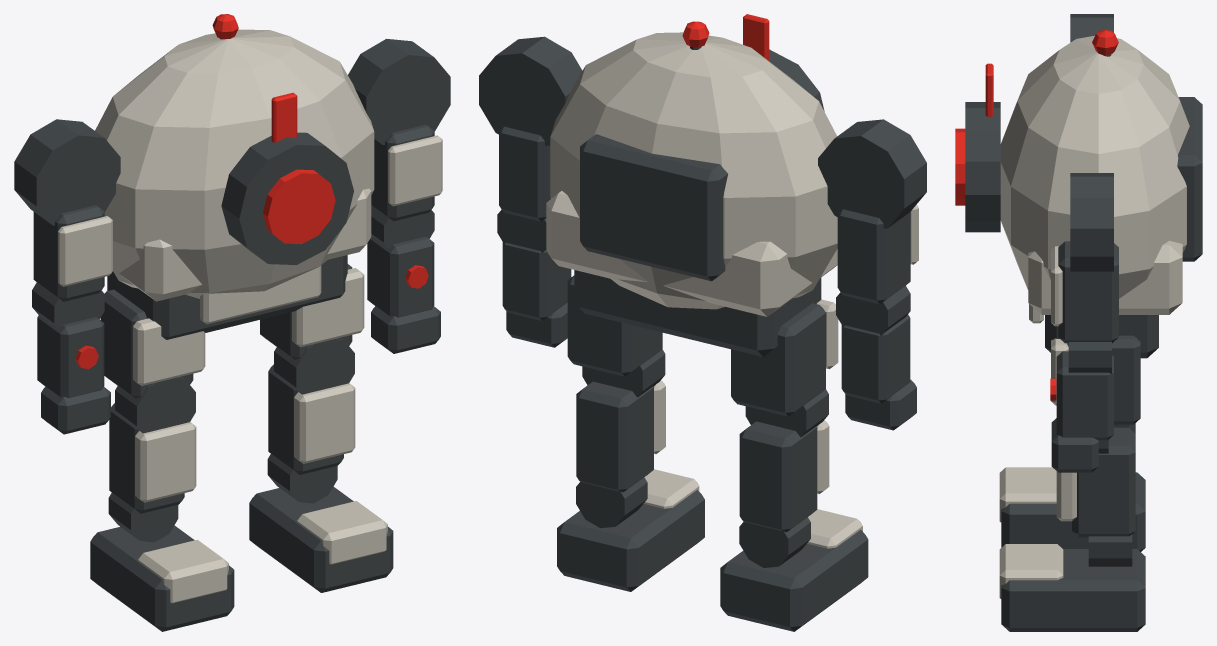
The model's file is Enemy_Grunt.fbx.
The picture shows the model from 3 angles, left to right: view 1: azimuth 30°, elevation 25°; view 2: azimuth 150°, elevation 25°; view 3: azimuth 270°, elevation 25°; orthographic projection. The views are drawn at different scales.
Visible parts, largest first — view 1: Enemy_Grunt_Dark, Enemy_Grunt_Ivory, Enemy_Grunt_Red; view 2: Enemy_Grunt_Dark, Enemy_Grunt_Ivory, Enemy_Grunt_Red; view 3: Enemy_Grunt_Dark, Enemy_Grunt_Ivory, Enemy_Grunt_Red.
Boxes of the visible parts, bbox=[...] form: Enemy_Grunt_Dark: bbox=[14, 38, 450, 631]; Enemy_Grunt_Ivory: bbox=[58, 29, 442, 603]; Enemy_Grunt_Red: bbox=[75, 14, 428, 369]; Enemy_Grunt_Dark: bbox=[479, 36, 926, 631]; Enemy_Grunt_Ivory: bbox=[546, 32, 918, 548]; Enemy_Grunt_Red: bbox=[682, 14, 769, 60]; Enemy_Grunt_Dark: bbox=[965, 14, 1202, 631]; Enemy_Grunt_Ivory: bbox=[999, 35, 1189, 598]; Enemy_Grunt_Red: bbox=[955, 30, 1118, 400].
Bounding box in the file's own units: 1.41 × 1.8 × 0.7375.
